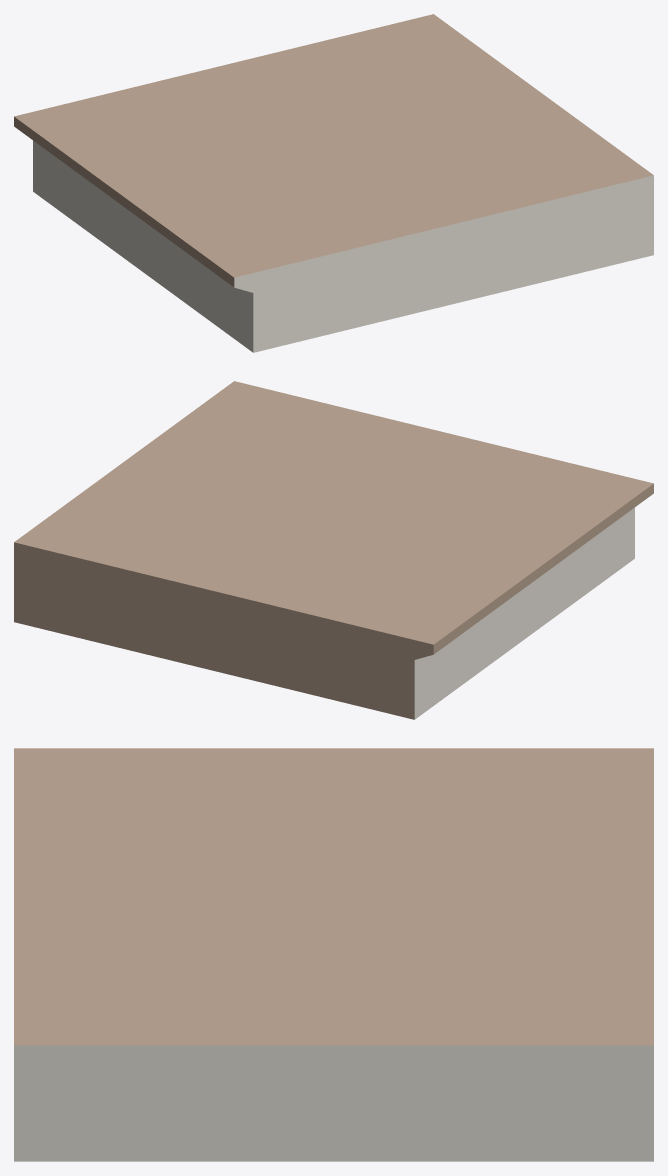
The model's file is Structure_Balcony_1_Edge.glb.
3 views of the same model, one above another, from view 1: azimuth 30°, elevation 25°; view 2: azimuth 150°, elevation 25°; view 3: azimuth 270°, elevation 25° (orthographic). The views are drawn at different scales.
Parts seen in each view (by area): view 1: Structure_Balcony_1_Edge; view 2: Structure_Balcony_1_Edge; view 3: Structure_Balcony_1_Edge.
Boxes of the visible parts, x1=… form: Structure_Balcony_1_Edge: x1=14, y1=14, x2=653, y2=352; Structure_Balcony_1_Edge: x1=14, y1=381, x2=653, y2=719; Structure_Balcony_1_Edge: x1=14, y1=748, x2=653, y2=1161.
Size of the model in its own units: 0.495 by 0.09 by 0.45.
